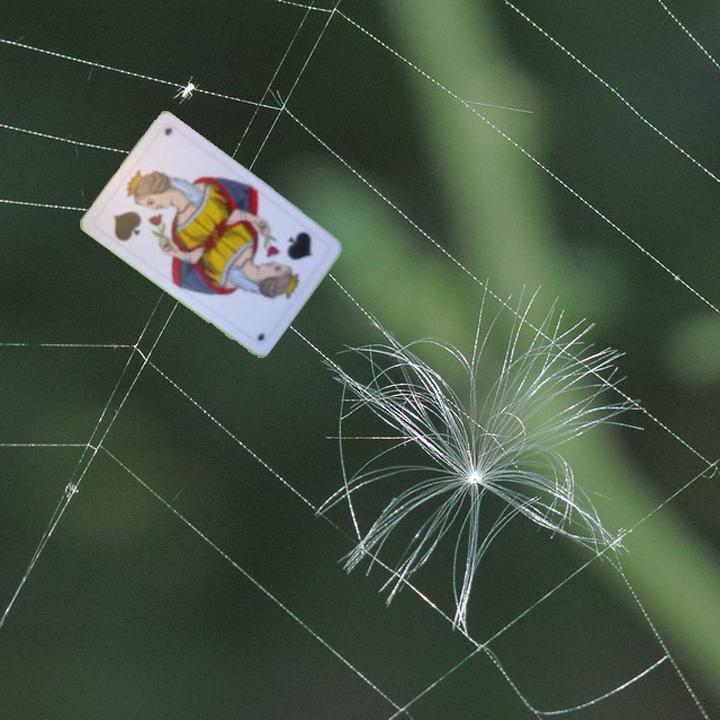s_q.png: (250, 212, 334, 298), (90, 171, 174, 257)
